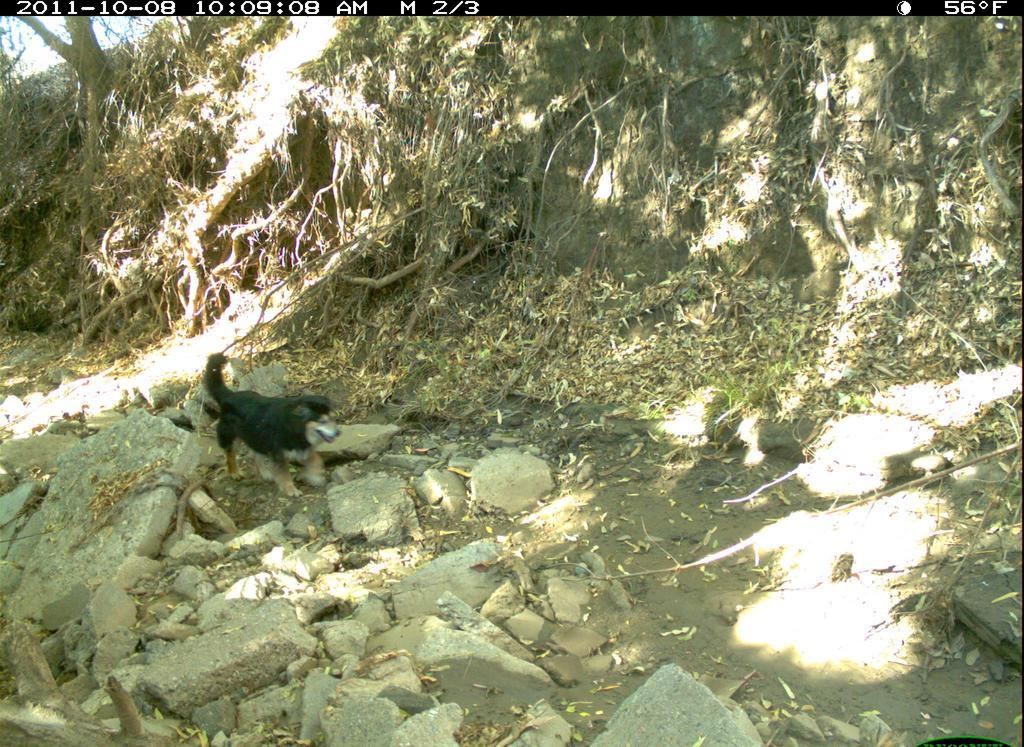dog: (200, 345, 350, 504)
